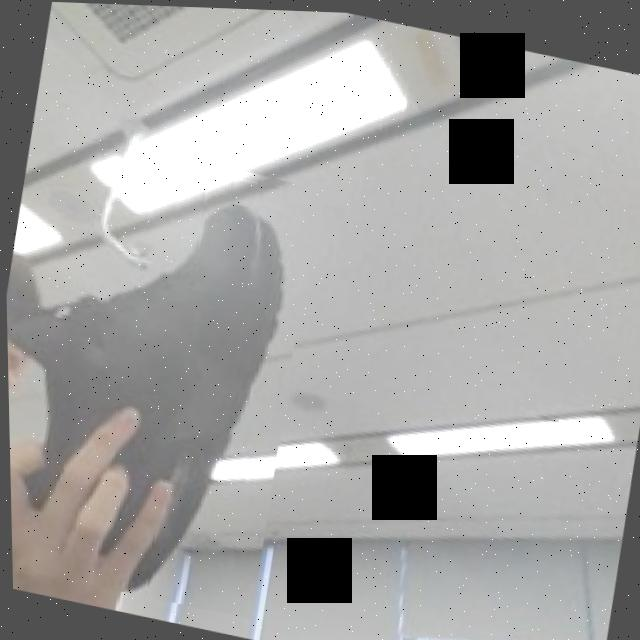shoe: (2, 123, 326, 619)
